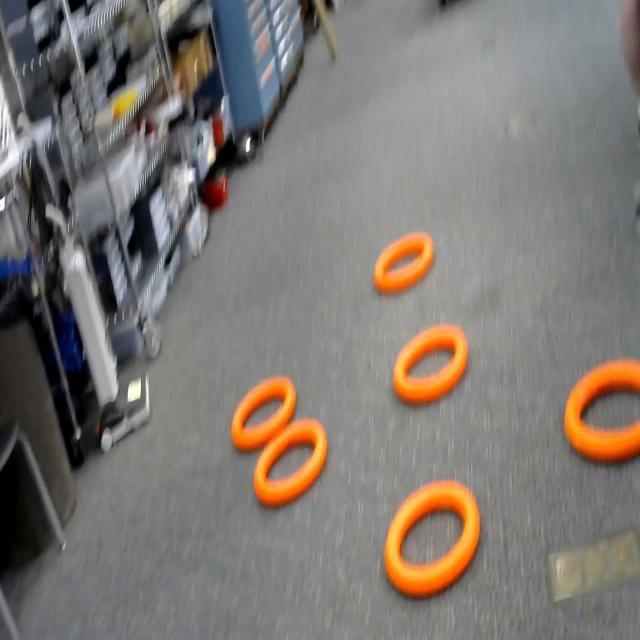note: (382, 480, 486, 596), (562, 361, 640, 453), (392, 328, 469, 404), (227, 372, 300, 436), (258, 440, 328, 504), (374, 230, 441, 290)
